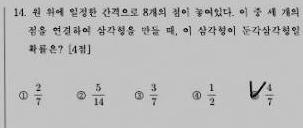choice: (247, 81, 261, 101)
not-choice: (17, 89, 30, 101), (190, 90, 202, 102), (75, 89, 86, 101), (133, 90, 145, 101)
